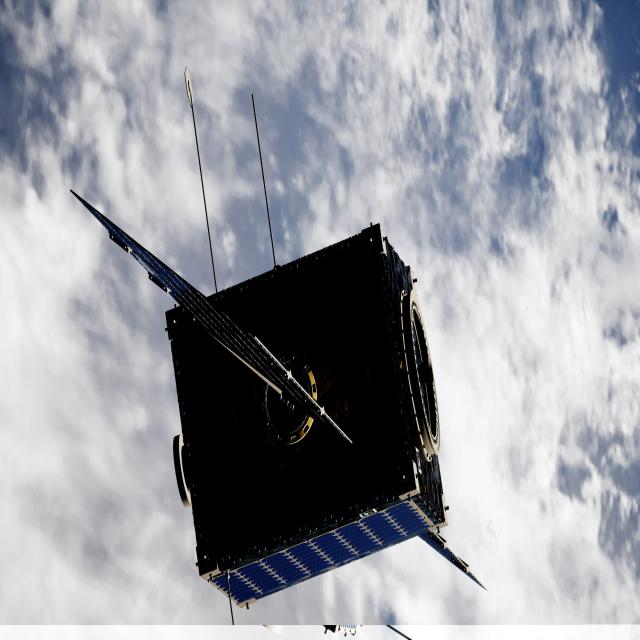medium_debris: (87, 207, 473, 609)
